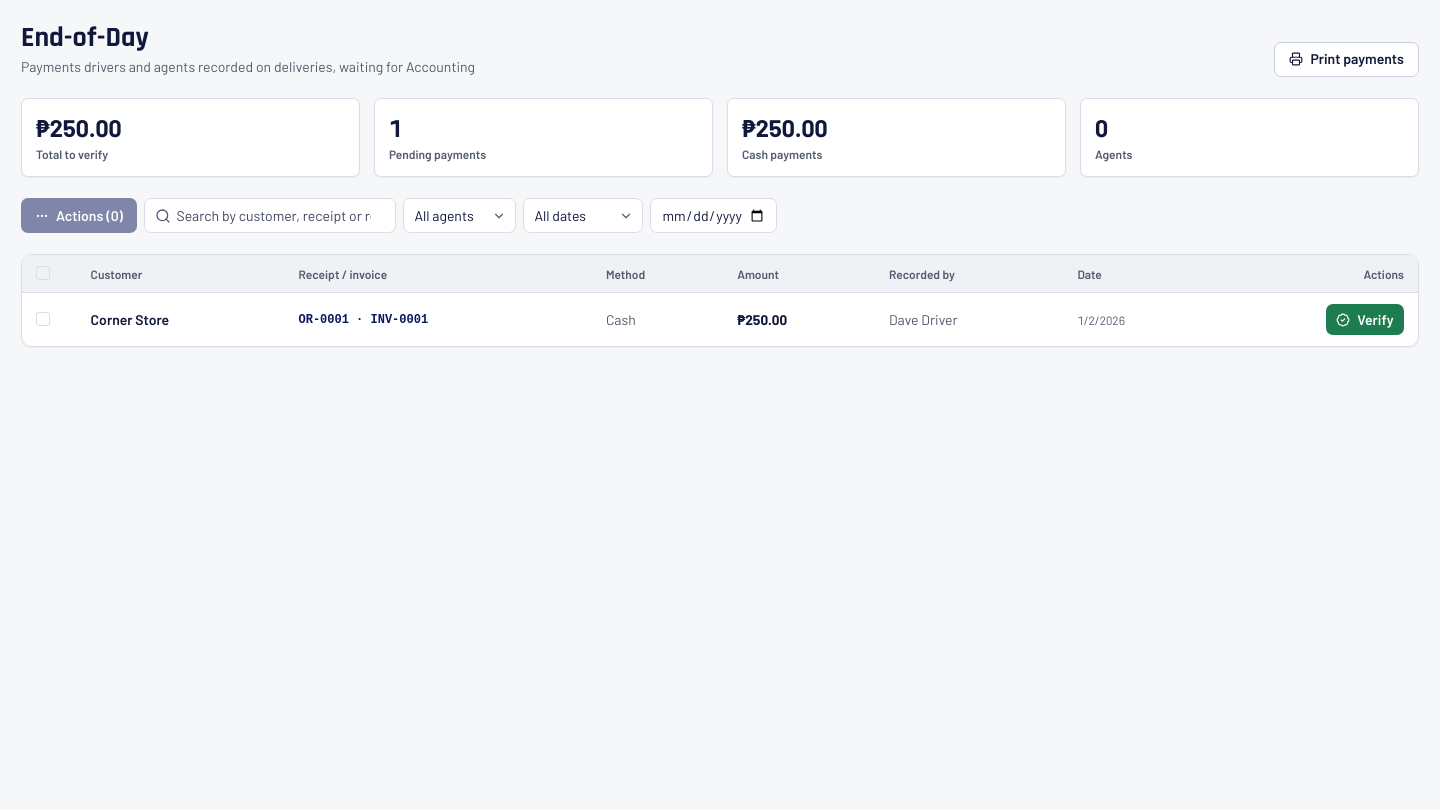
Test case: PaymentVerification › confirms in a modal, then verifies and refreshes
Click the button "Verify": (1365, 320) [1326,304,1404,335]
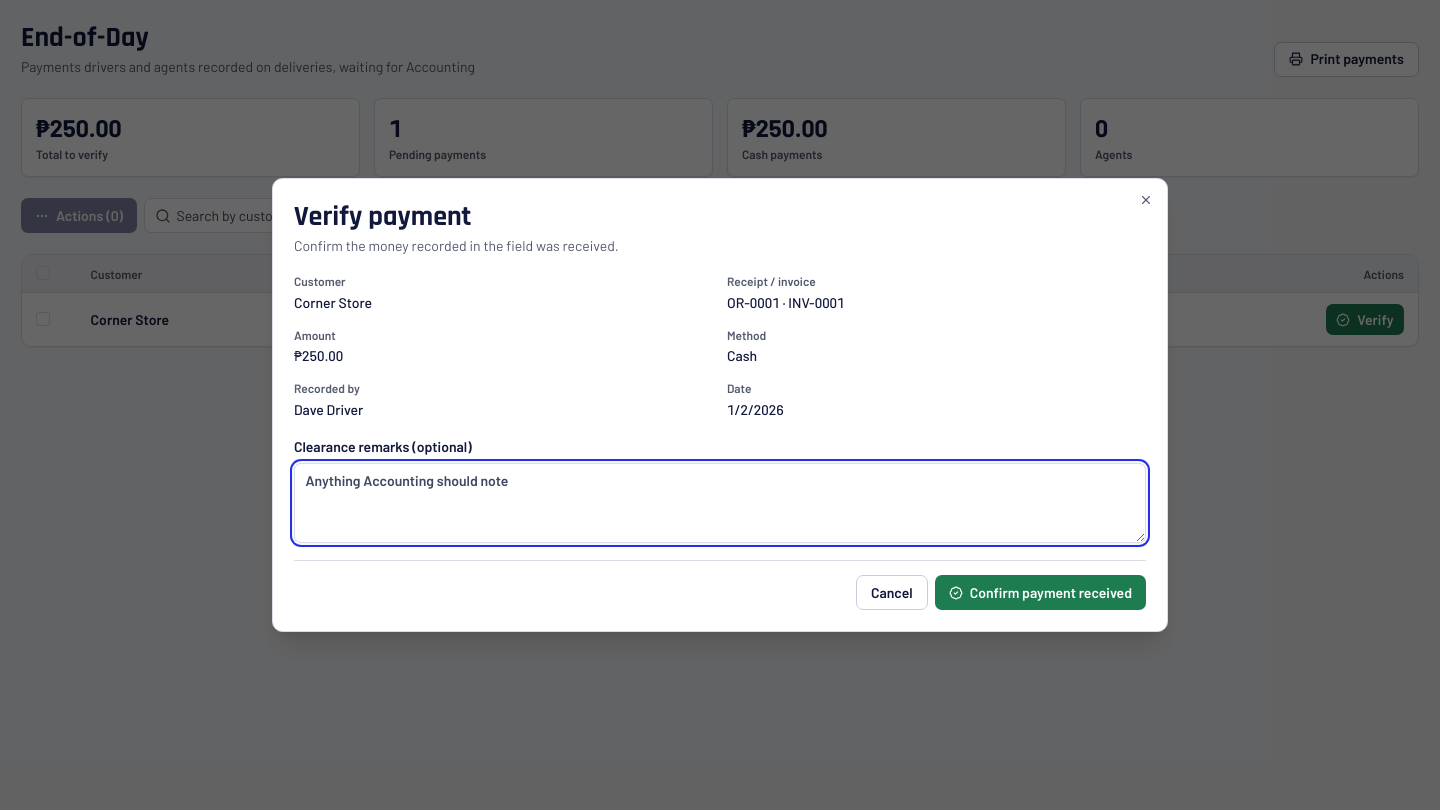
Click the button "Confirm payment received": (1040, 592) [935,575,1146,610]
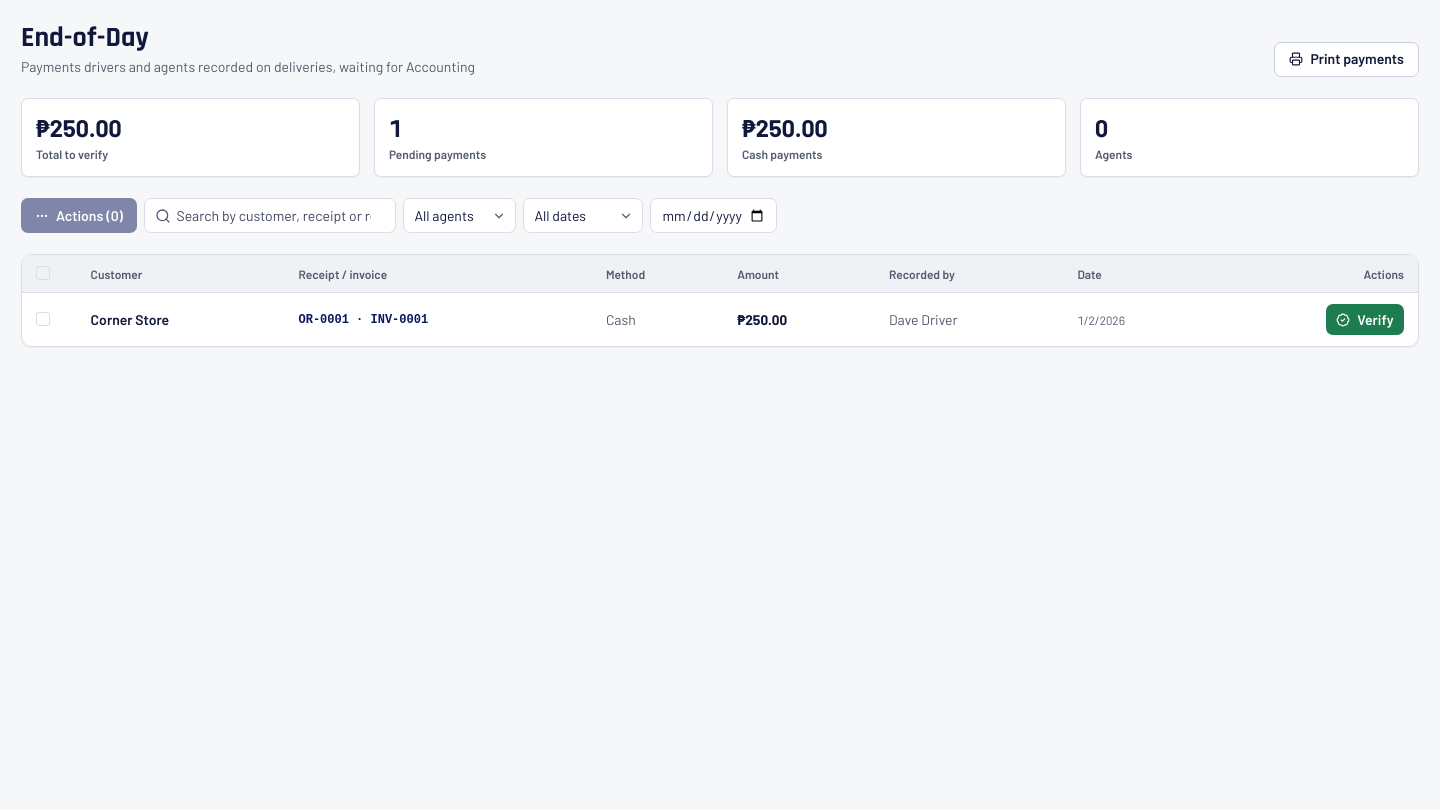
Result: the dialog is gone
